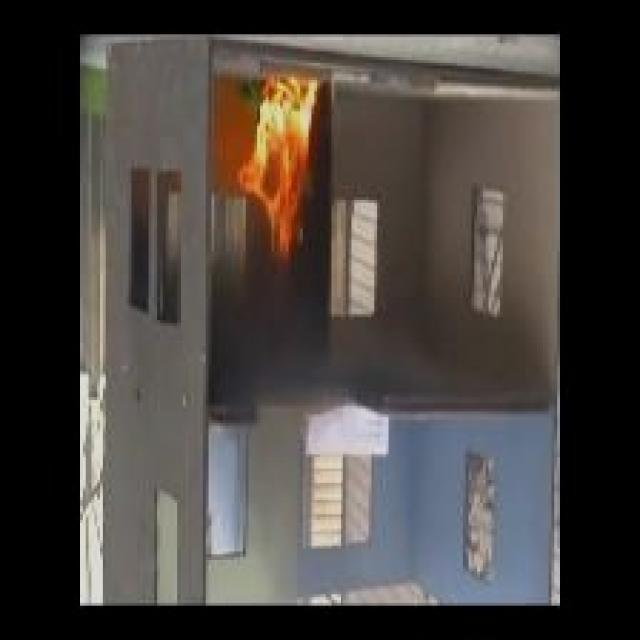fire: (217, 67, 329, 253)
